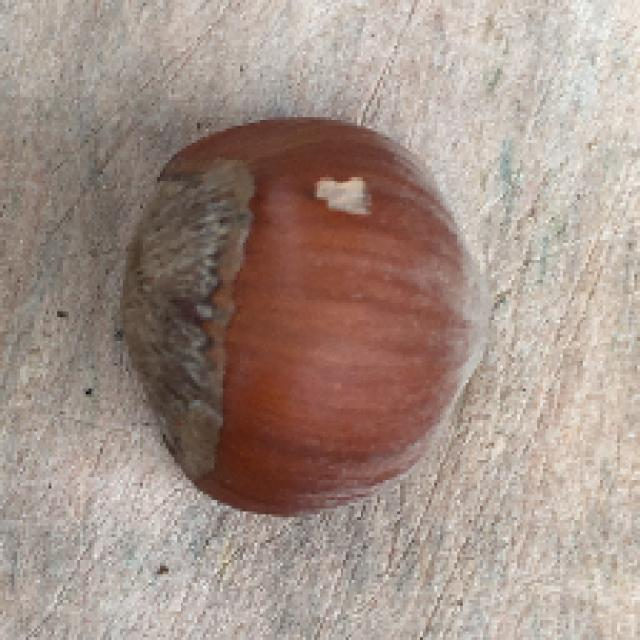QualityHazelnut: (115, 114, 486, 518)
